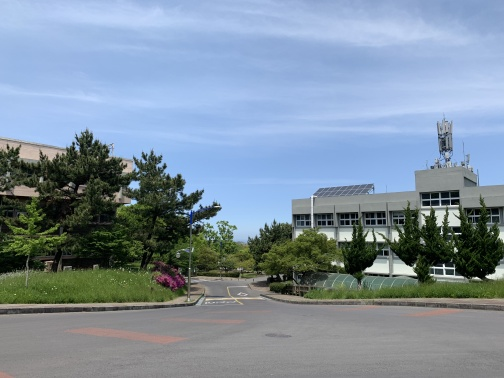College Of Education: (2, 137, 139, 279)
